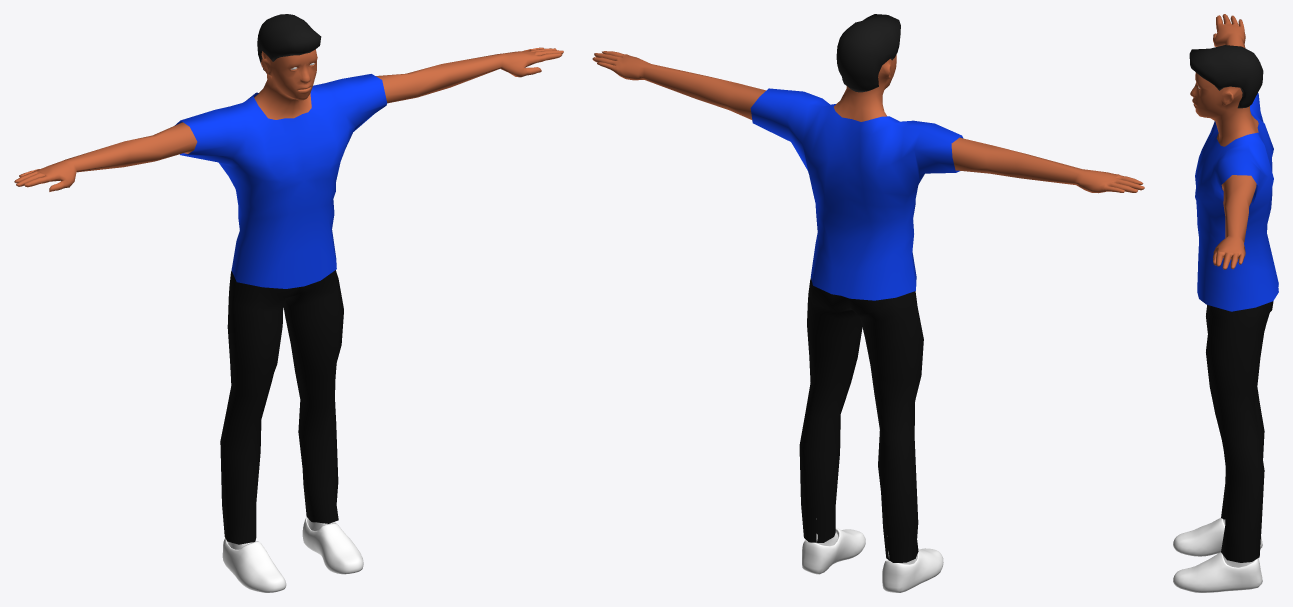
Rendered from Man 6.obj.
3 views of the same model, side by side, from view 1: azimuth 30°, elevation 25°; view 2: azimuth 150°, elevation 25°; view 3: azimuth 270°, elevation 25° (orthographic). The views are drawn at different scales.
Visible parts, largest first — view 1: Human:Male1591.001, Human:Male1591.002, Human:Male1591, Human:Shoes05, Human:Male1591.003_Human:Male1591.005; view 2: Human:Male1591.001, Human:Male1591.002, Human:Male1591, Human:Shoes05, Human:Male1591.003_Human:Male1591.005; view 3: Human:Male1591.002, Human:Male1591.001, Human:Male1591, Human:Shoes05, Human:Male1591.003_Human:Male1591.005.
Part boxes in pixels (x1,y1,x2,y2): Human:Male1591.001: [174, 74, 387, 288]; Human:Male1591.002: [220, 270, 343, 544]; Human:Male1591: [14, 47, 563, 191]; Human:Shoes05: [222, 517, 363, 592]; Human:Male1591.003_Human:Male1591.005: [257, 14, 321, 73]; Human:Male1591.001: [750, 88, 963, 300]; Human:Male1591.002: [799, 278, 923, 562]; Human:Male1591: [592, 51, 1144, 193]; Human:Shoes05: [802, 518, 943, 592]; Human:Male1591.003_Human:Male1591.005: [836, 14, 900, 92]; Human:Male1591.002: [1206, 301, 1273, 562]; Human:Male1591.001: [1195, 93, 1278, 311]; Human:Male1591: [1190, 14, 1258, 269]; Human:Shoes05: [1173, 518, 1262, 592]; Human:Male1591.003_Human:Male1591.005: [1189, 45, 1263, 108].
Size of the model in its own units: 19.93 by 19.06 by 3.51.
